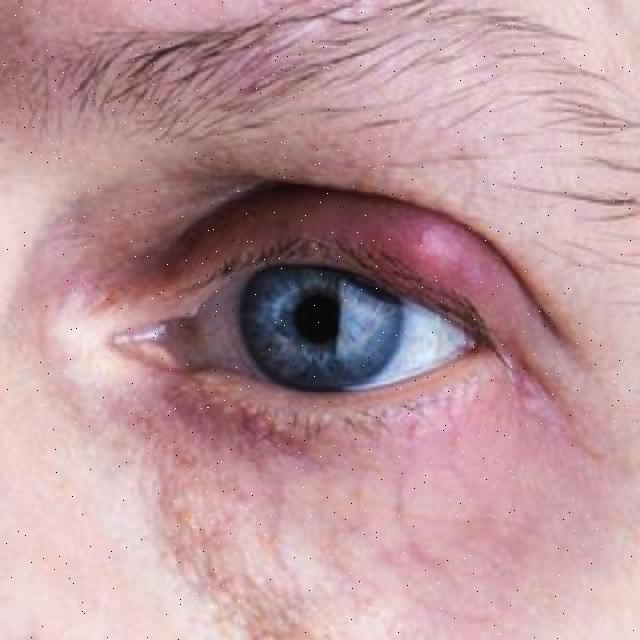Stye: (340, 202, 533, 322)
